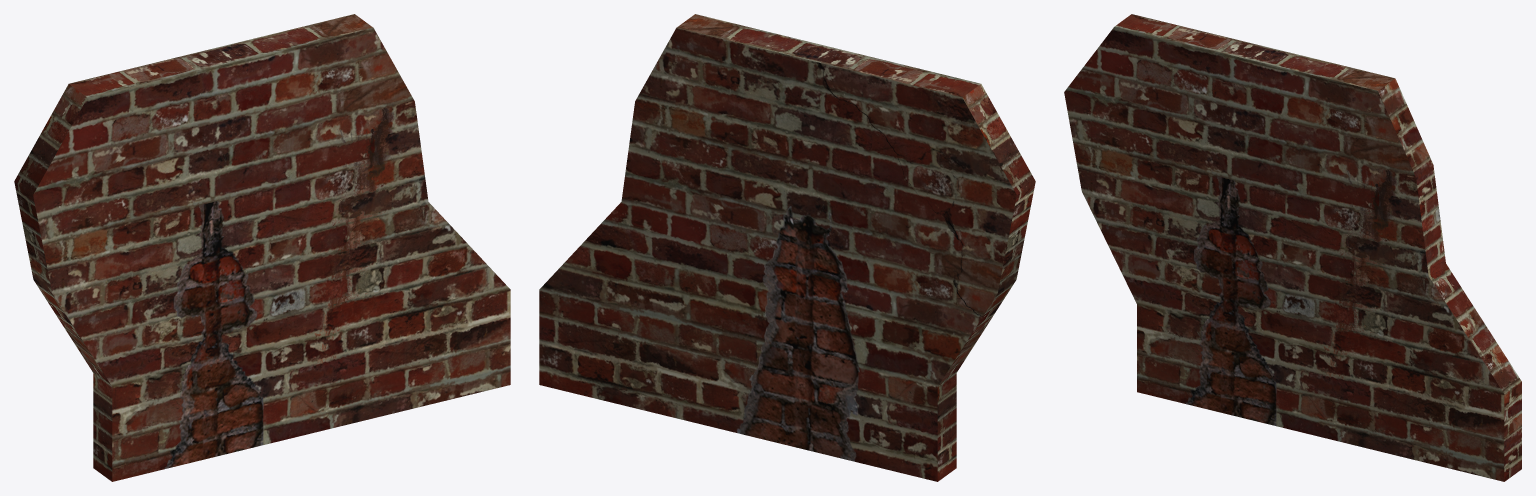
The model's file is wallBroken_Mesh03.fbx.
3 views of the same model, side by side, from view 1: azimuth 30°, elevation 25°; view 2: azimuth 150°, elevation 25°; view 3: azimuth 330°, elevation 25° (orthographic). The views are drawn at different scales.
Parts seen in each view (by area): view 1: wallbroken3; view 2: wallbroken3; view 3: wallbroken3.
Part boxes in pixels (bbox=[...]): wallbroken3: bbox=[14, 14, 510, 481]; wallbroken3: bbox=[539, 14, 1035, 481]; wallbroken3: bbox=[1064, 14, 1521, 481].
Bounding box in the file's own units: 87.73 × 68.55 × 6.
